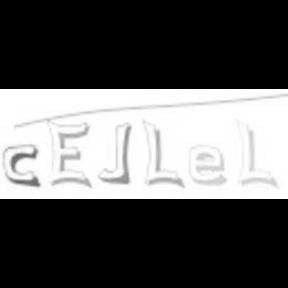E: (48, 118, 92, 188)
J: (96, 121, 134, 183)
L: (141, 118, 183, 188)
c: (1, 143, 41, 187)
e: (233, 118, 281, 190), (186, 144, 226, 188)
